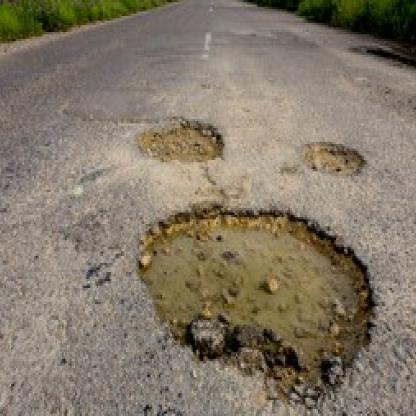pothole: (135, 203, 376, 407), (134, 119, 225, 162), (301, 140, 364, 179)
